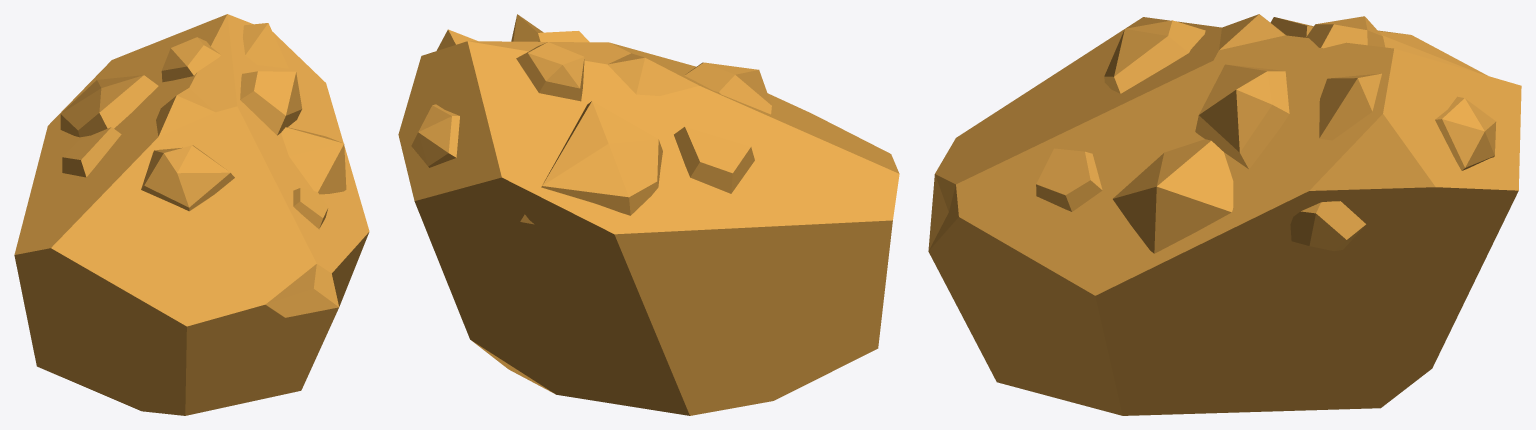
File: magma-ore.fbx
The picture shows the model from 3 angles, left to right: view 1: azimuth 30°, elevation 25°; view 2: azimuth 150°, elevation 25°; view 3: azimuth 270°, elevation 25°; orthographic projection. The views are drawn at different scales.
Visible parts, largest first — view 1: magma-ore; view 2: magma-ore; view 3: magma-ore.
Boxes of the visible parts, x1=… form: magma-ore: x1=14, y1=14, x2=369, y2=415; magma-ore: x1=398, y1=14, x2=899, y2=415; magma-ore: x1=928, y1=14, x2=1521, y2=415.
Bounding box in the file's own units: 0.9908 × 0.7244 × 1.01.
